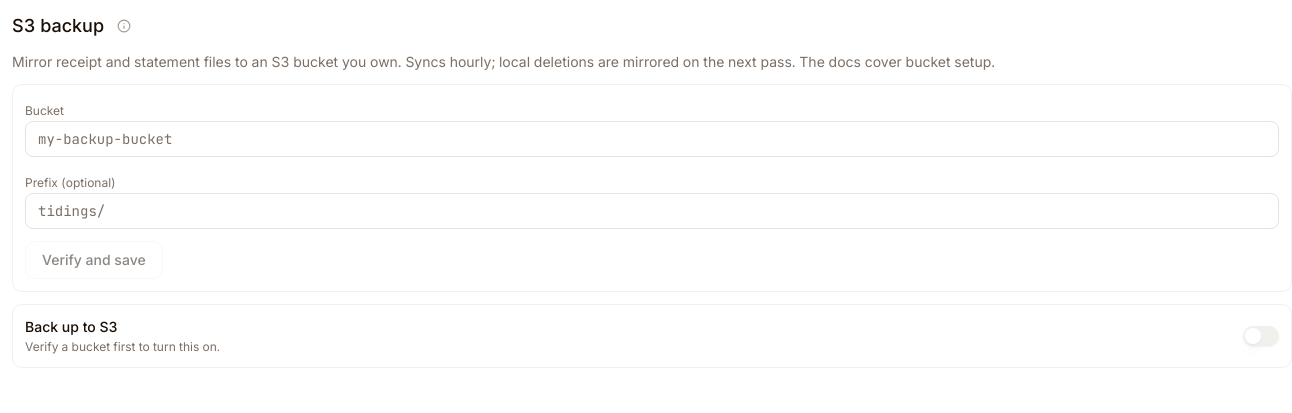
it: S3BackupSection › shows the error text and does not save when verification fails
Type "locked-bucket" into the field labelled "Bucket" at [652, 139], box [25,121,1279,157]
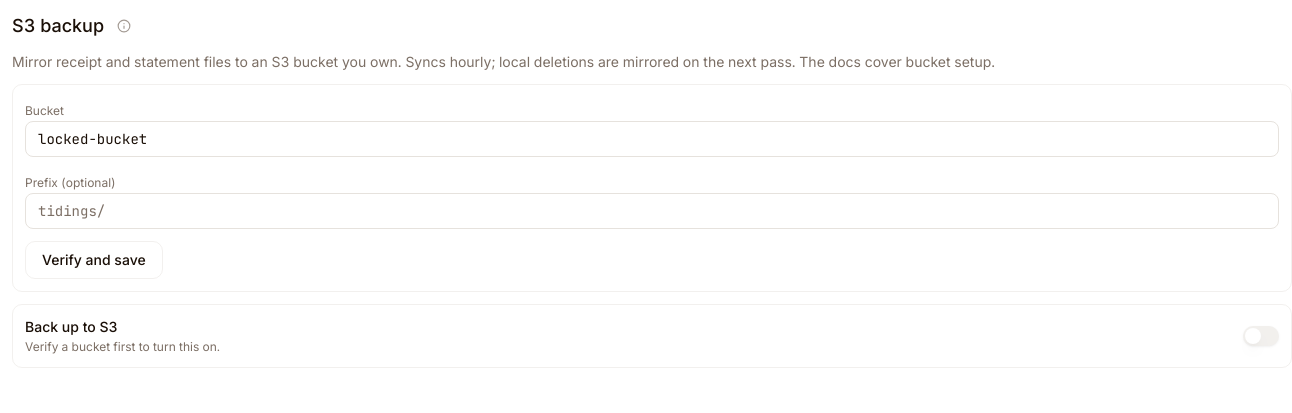
Click the button "Verify and save" at [94, 260], box [25,241,163,279]
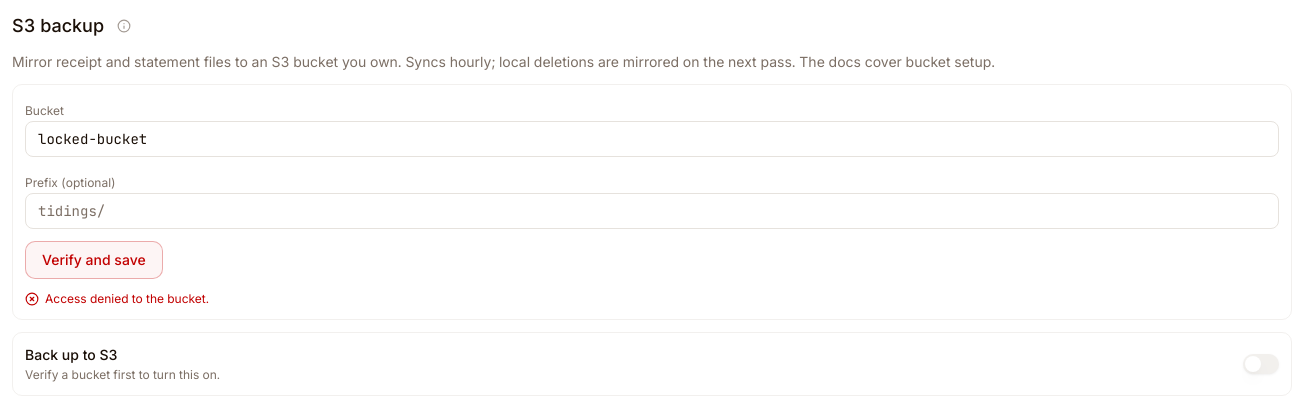
Now the text "Access denied to the bucket." is shown, box [25,291,209,306]
